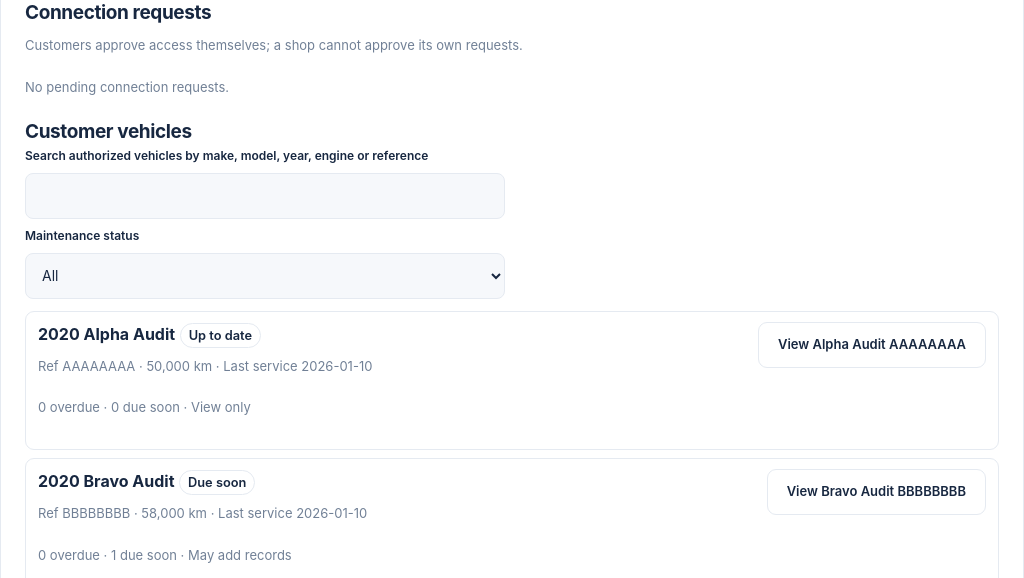
Test: refreshes an open history and drops it when authorization is withdrawn
Expected: the text "2020 Alpha Audit" is shown, [38,324,175,344]
Click the button "View Alpha Audit AAAAAAAA": (872, 345) [758,322,986,368]
(page scrolled)
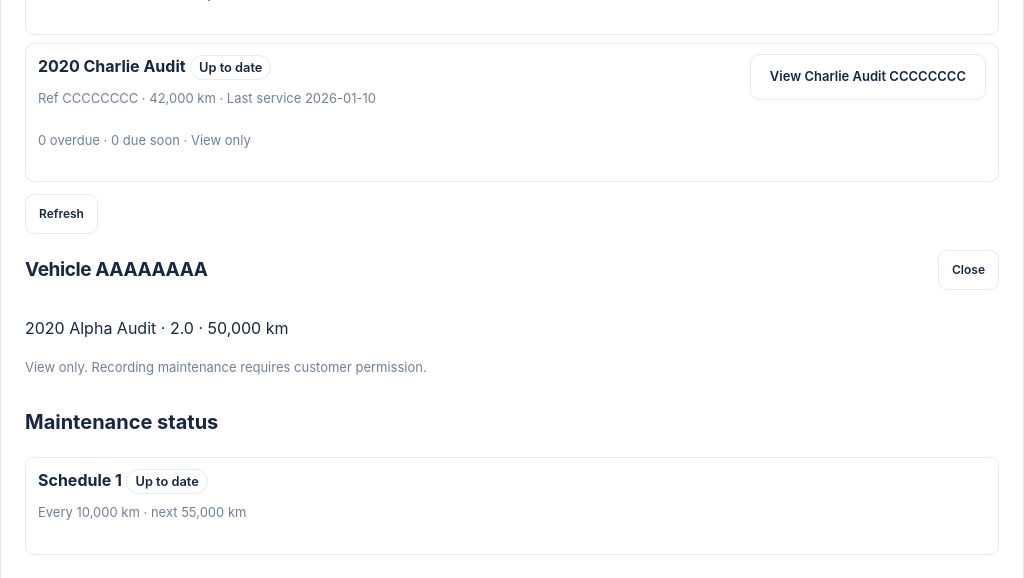
Now the text "Schedule 1" is shown, box [38,470,122,490]
Click the button "Refresh": (62, 214) [25,194,98,234]
(page scrolled)
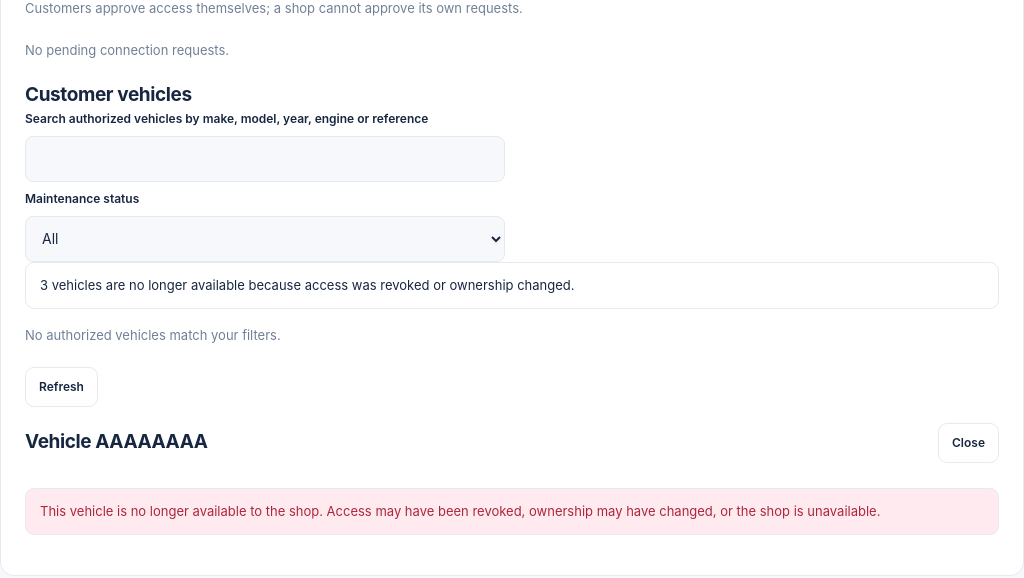
Now the text "no longer available to the shop" is shown, box [40,503,880,519]
Now the text "Schedule 1" is gone
